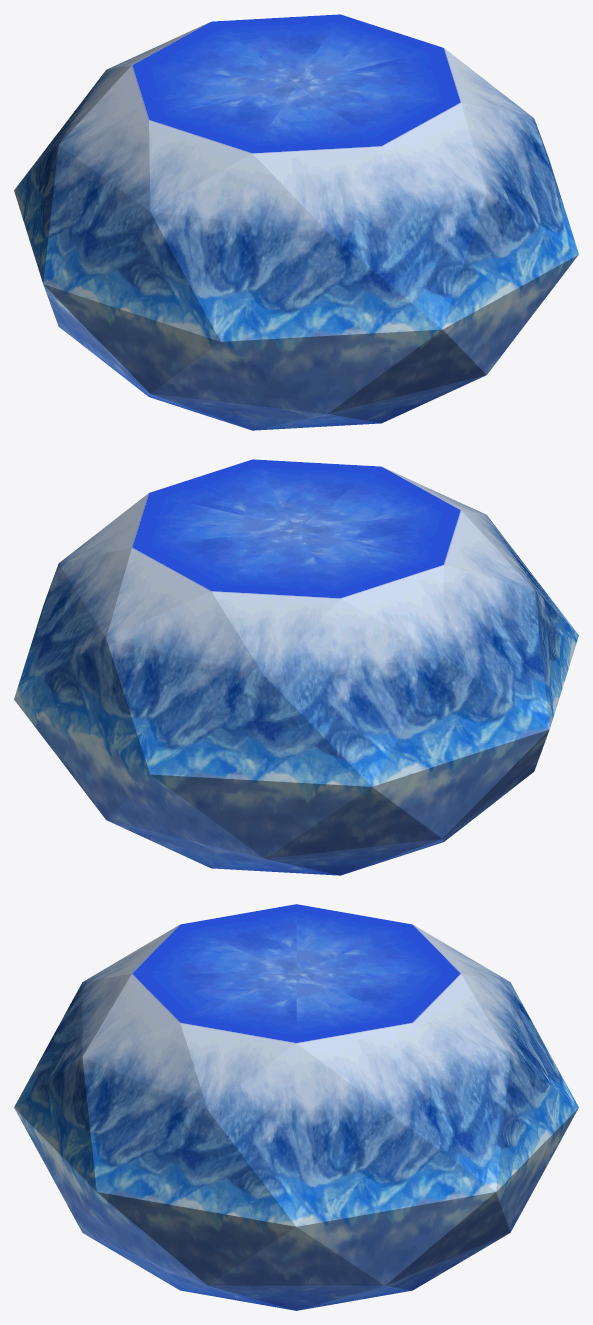
The picture shows the model from 3 angles, top to bottom: view 1: azimuth 30°, elevation 25°; view 2: azimuth 150°, elevation 25°; view 3: azimuth 270°, elevation 25°; orthographic projection. The views are drawn at different scales.
Visible parts, largest first — view 1: world_root; view 2: world_root; view 3: world_root.
Part boxes in pixels (x1,y1,x2,y2): world_root: (14,14,578,430); world_root: (14,459,578,875); world_root: (14,904,578,1310).
Size of the model in its own units: 117964 by 61688 by 117964.
Materials: 1 (1 with a texture image).
